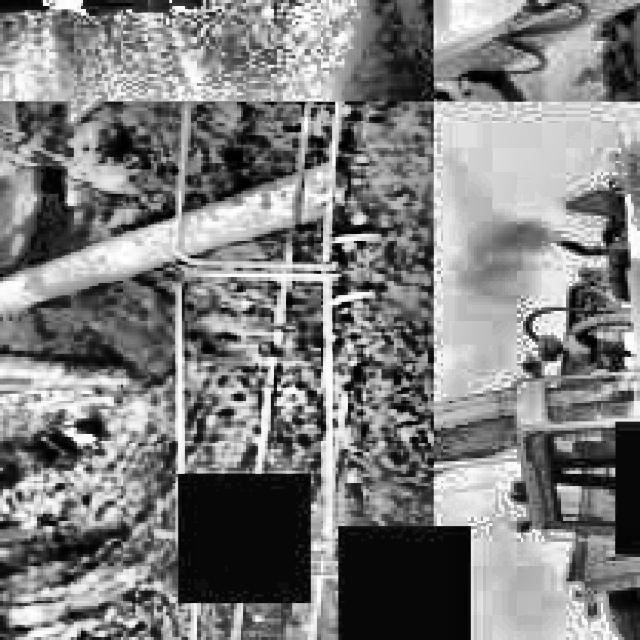excavator: (434, 123, 640, 640)
